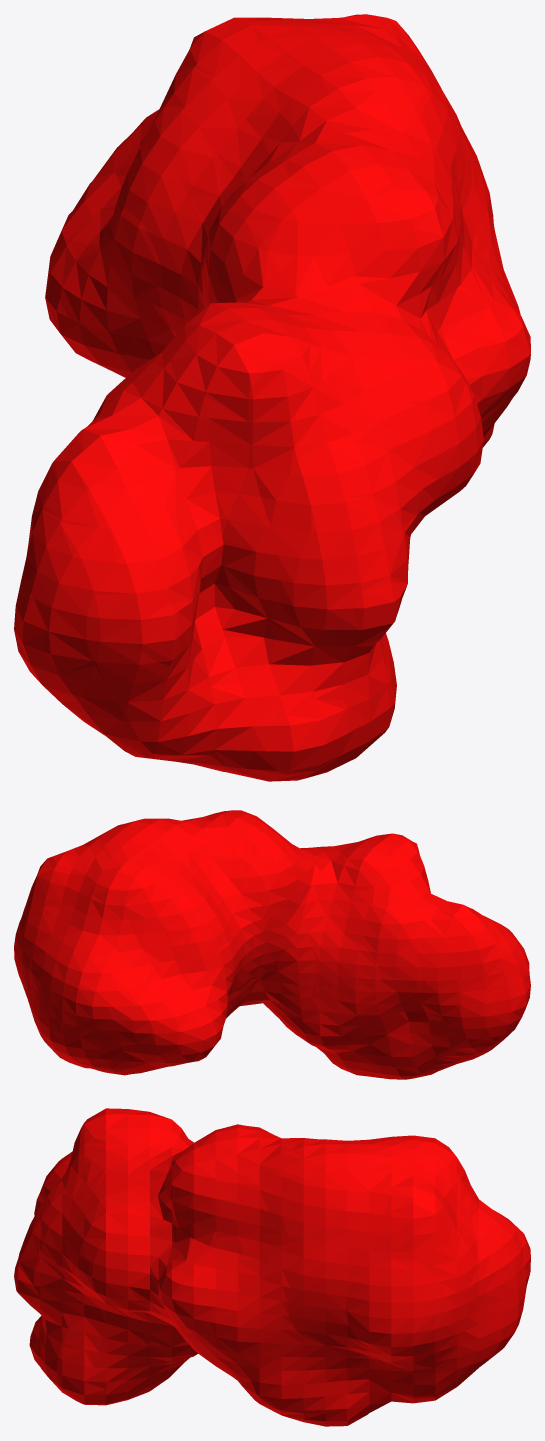
Rendered from yajQ_coarse.dae.
3 renders of one model, top to bottom at view 1: azimuth 30°, elevation 25°; view 2: azimuth 150°, elevation 25°; view 3: azimuth 270°, elevation 25°, orthographic. The views are drawn at different scales.
Parts seen in each view (by area): view 1: yajQ; view 2: yajQ; view 3: yajQ.
Boxes of the visible parts, x1,y1,x2,y2 form: yajQ: (14,14,530,781); yajQ: (14,810,530,1079); yajQ: (14,1108,530,1426).
Bounding box in the file's own units: 53.44 × 38.74 × 56.32.
